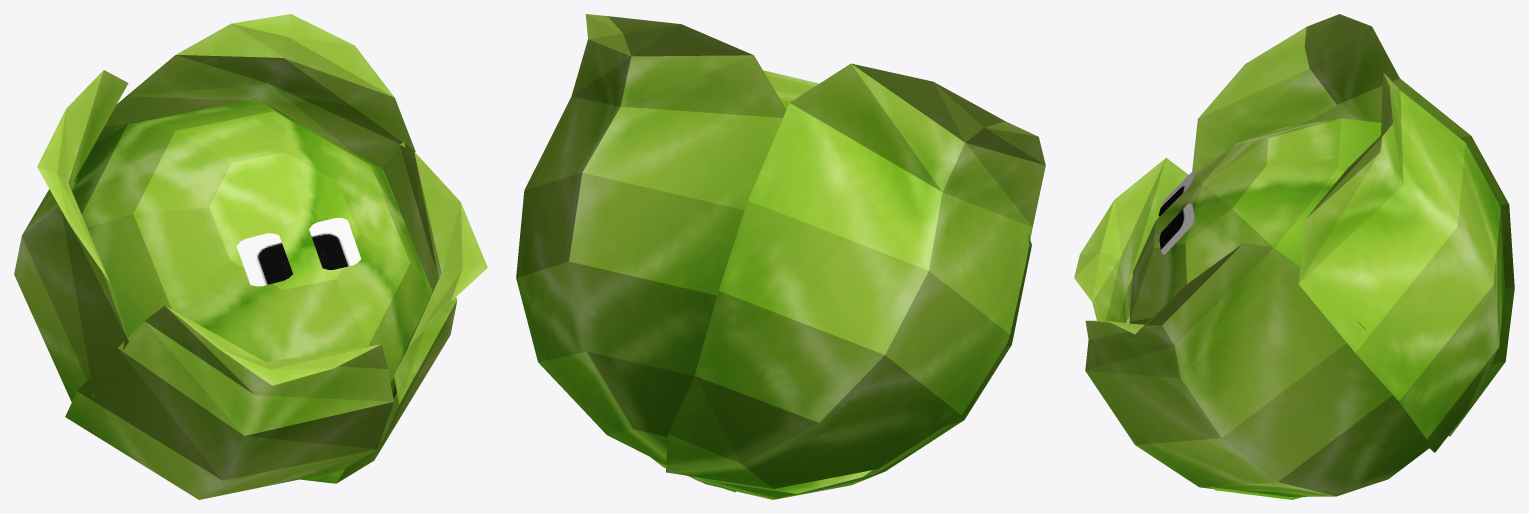
Rendered from col_000173.obj.
3 renders of one model, left to right at view 1: azimuth 30°, elevation 25°; view 2: azimuth 150°, elevation 25°; view 3: azimuth 270°, elevation 25°, orthographic. The views are drawn at different scales.
Visible parts, largest first — view 1: polygon0; view 2: polygon0; view 3: polygon0.
Part boxes in pixels (x1,y1,x2,y2): polygon0: (14, 14, 487, 499); polygon0: (516, 14, 1045, 499); polygon0: (1074, 14, 1514, 499).
Bounding box in the file's own units: 0.0859 × 0.0874 × 0.0842.
Materials: 1 (1 with a texture image).
